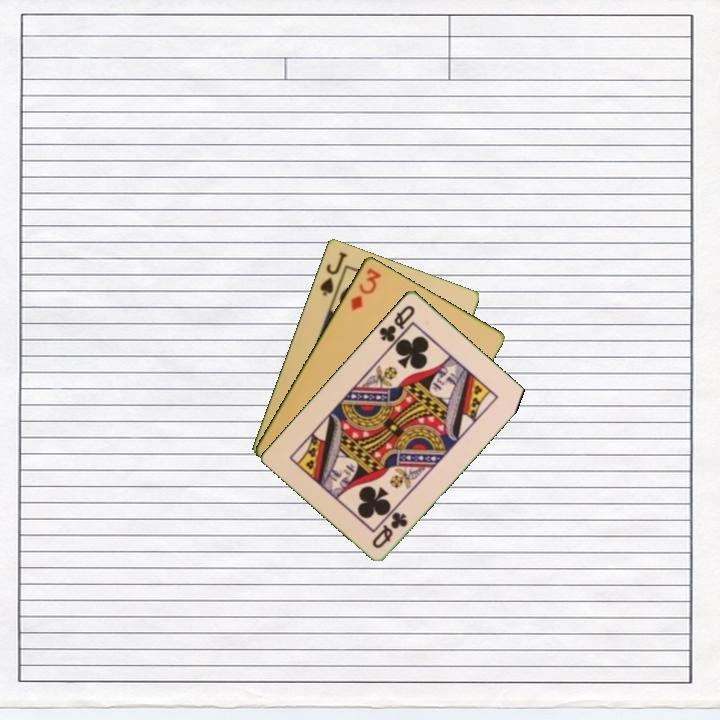3d: (347, 264, 384, 313)
Js: (316, 248, 350, 299)
Qc: (375, 301, 418, 345), (368, 508, 411, 551)
